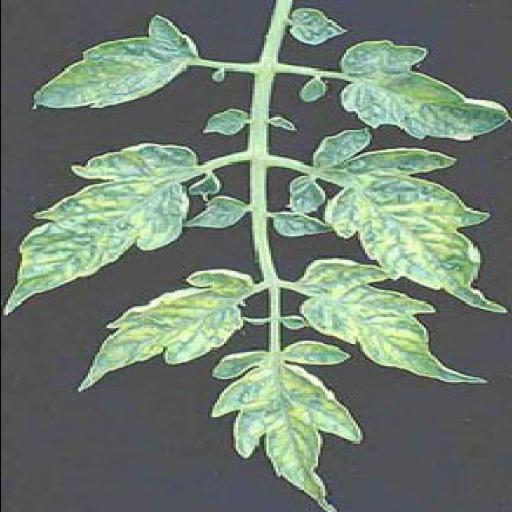Mosaic Virus: (287, 128, 507, 312), (2, 143, 200, 314), (208, 342, 366, 512), (298, 255, 488, 387), (76, 269, 254, 391), (331, 40, 512, 140), (32, 16, 204, 111)
